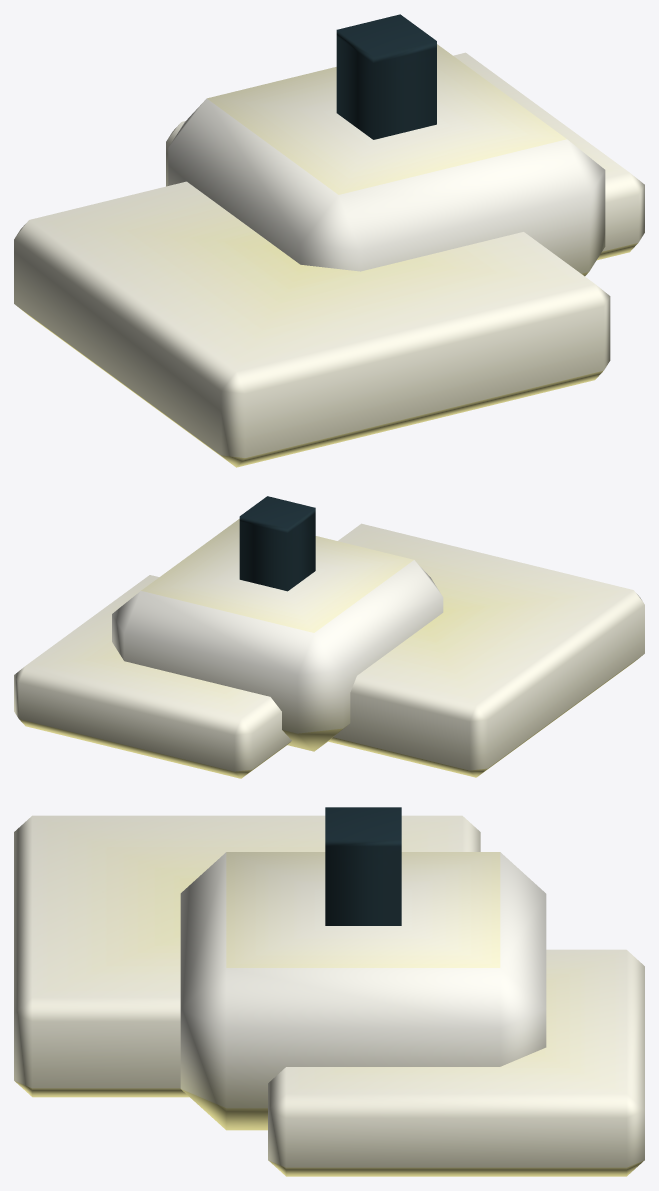
The model's file is candle_arrangement_4.fbx.
The picture shows the model from 3 angles, top to bottom: view 1: azimuth 30°, elevation 25°; view 2: azimuth 150°, elevation 25°; view 3: azimuth 270°, elevation 25°; orthographic projection. The views are drawn at different scales.
Parts seen in each view (by area): view 1: candle_arrangement_4; view 2: candle_arrangement_4; view 3: candle_arrangement_4.
Boxes of the visible parts, x1=… form: candle_arrangement_4: x1=14, y1=14, x2=644, y2=467; candle_arrangement_4: x1=14, y1=496, x2=644, y2=778; candle_arrangement_4: x1=14, y1=807, x2=644, y2=1176.
Bounding box in the file's own units: 71.48 × 30 × 68.88.
1 material, 1 textured.
